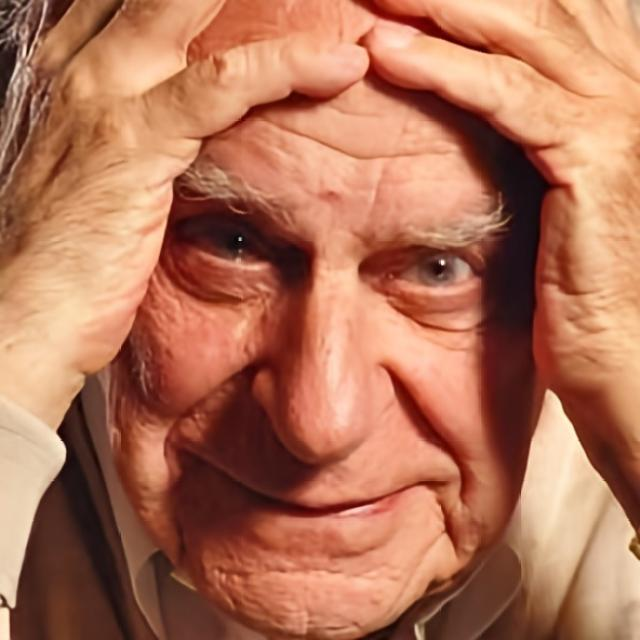happy: (102, 67, 548, 624)
